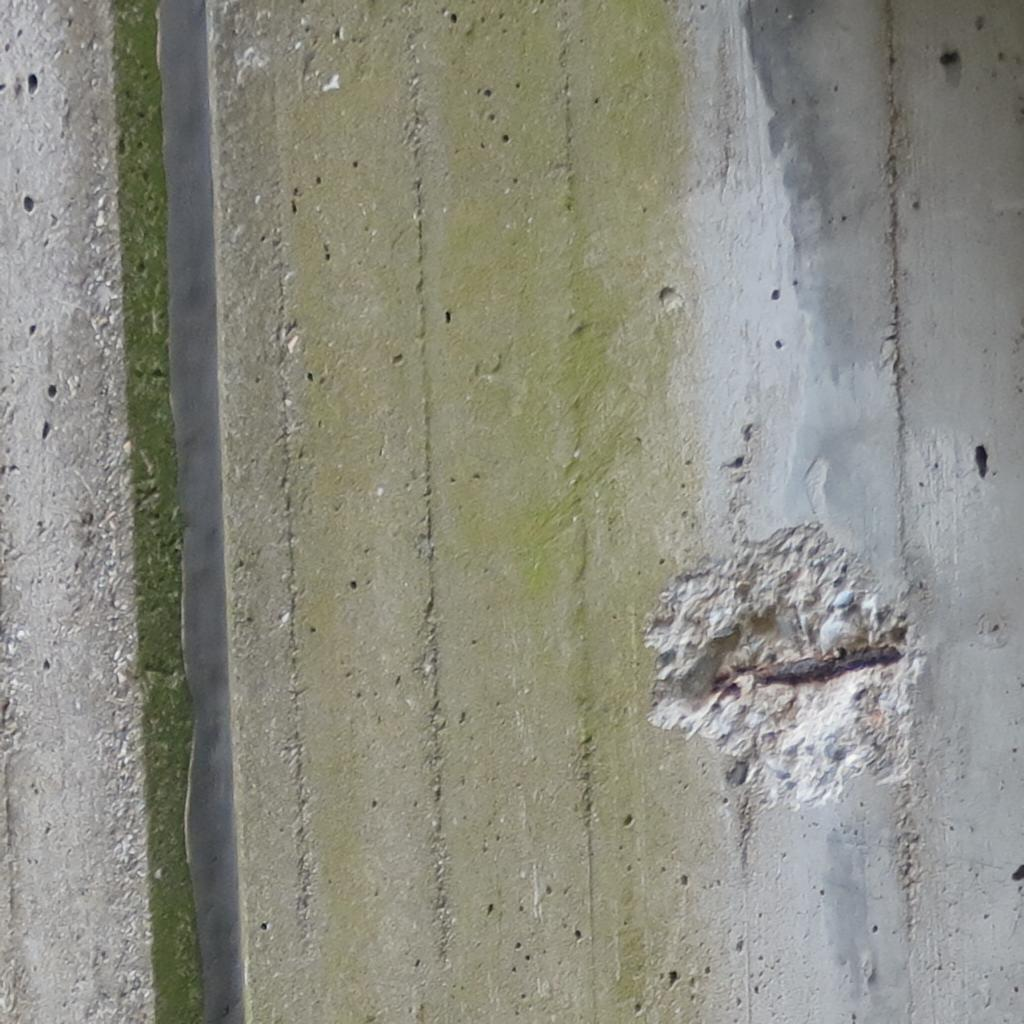exposed_rebar: (754, 646, 902, 685)
spalling: (646, 524, 918, 806)
